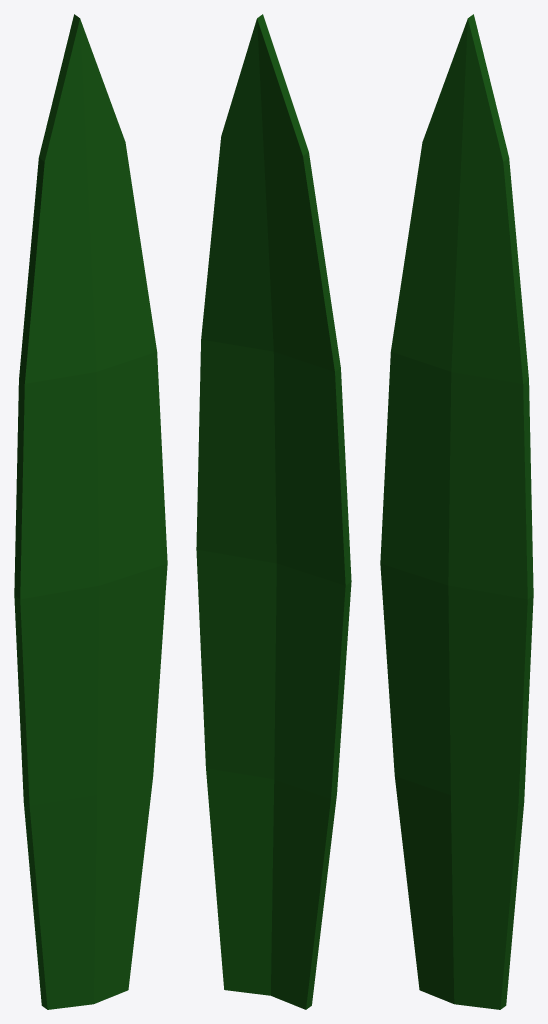
The model's file is Grass.fbx.
3 views of the same model, side by side, from view 1: azimuth 30°, elevation 25°; view 2: azimuth 150°, elevation 25°; view 3: azimuth 330°, elevation 25° (orthographic).
Visible parts, largest first — view 1: Grass Blade; view 2: Grass Blade; view 3: Grass Blade.
Boxes of the visible parts, x1,y1,x2,y2 form: Grass Blade: [14, 14, 167, 1009]; Grass Blade: [196, 14, 351, 1009]; Grass Blade: [380, 14, 533, 1009].
Bounding box in the file's own units: 109 × 692 × 32.64.
